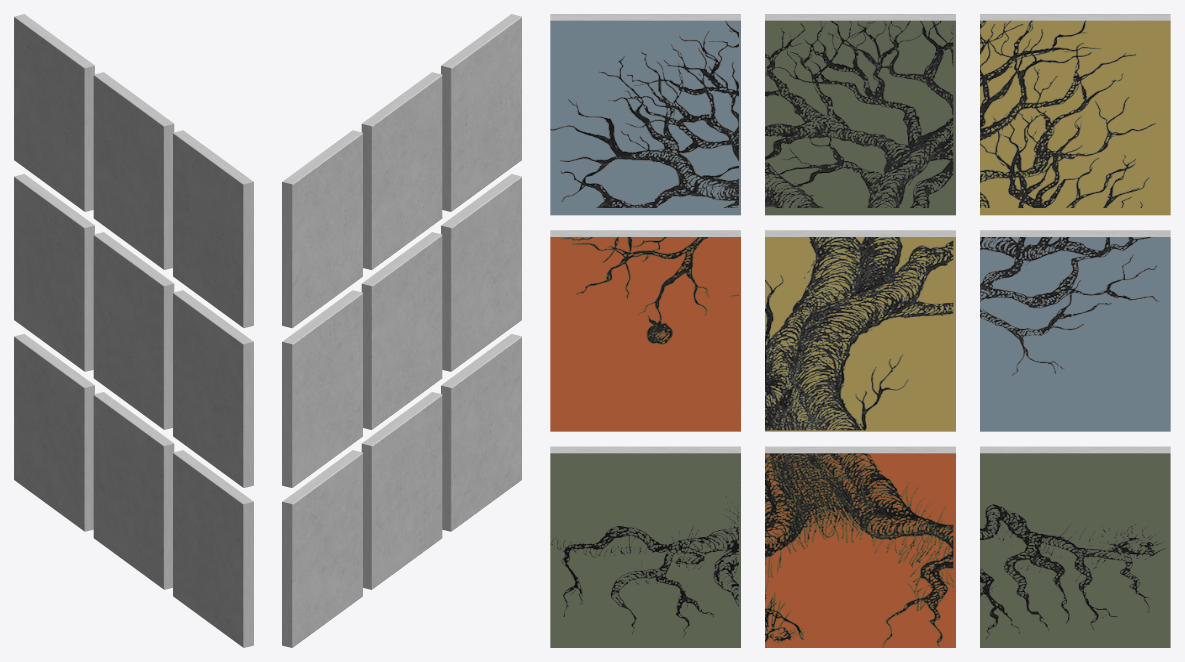
Rendered from Wall_Decor.glb.
The picture shows the model from 3 angles, left to right: view 1: azimuth 30°, elevation 25°; view 2: azimuth 150°, elevation 25°; view 3: azimuth 270°, elevation 25°; orthographic projection. The views are drawn at different scales.
Visible parts, largest first — view 1: ceramic_ar; view 2: ceramic_ar; view 3: ceramic_ar.
Boxes of the visible parts, bbox=[...] form: ceramic_ar: bbox=[14, 14, 253, 647]; ceramic_ar: bbox=[282, 14, 521, 647]; ceramic_ar: bbox=[550, 14, 1170, 647].
Size of the model in its own units: 2.1 by 87 by 78.
2 materials, 2 textured.
